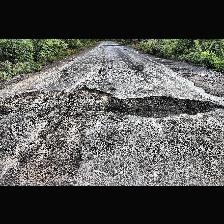pothole: (120, 94, 216, 116), (78, 85, 116, 113)
